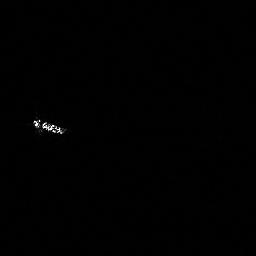ship: (30, 117, 67, 138)
